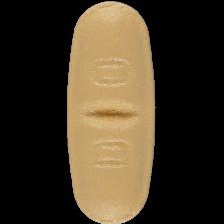0078-0423: (0, 0, 224, 224)
